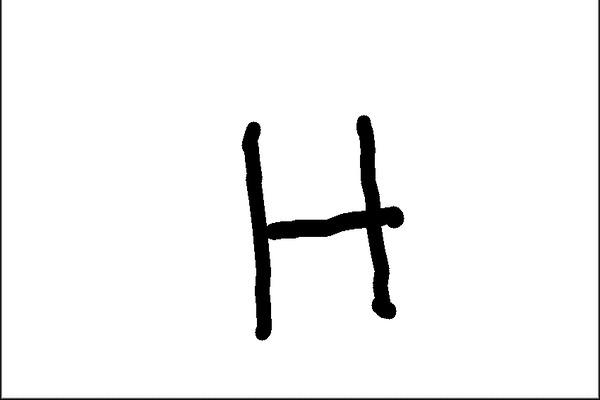H: (226, 108, 415, 343)
